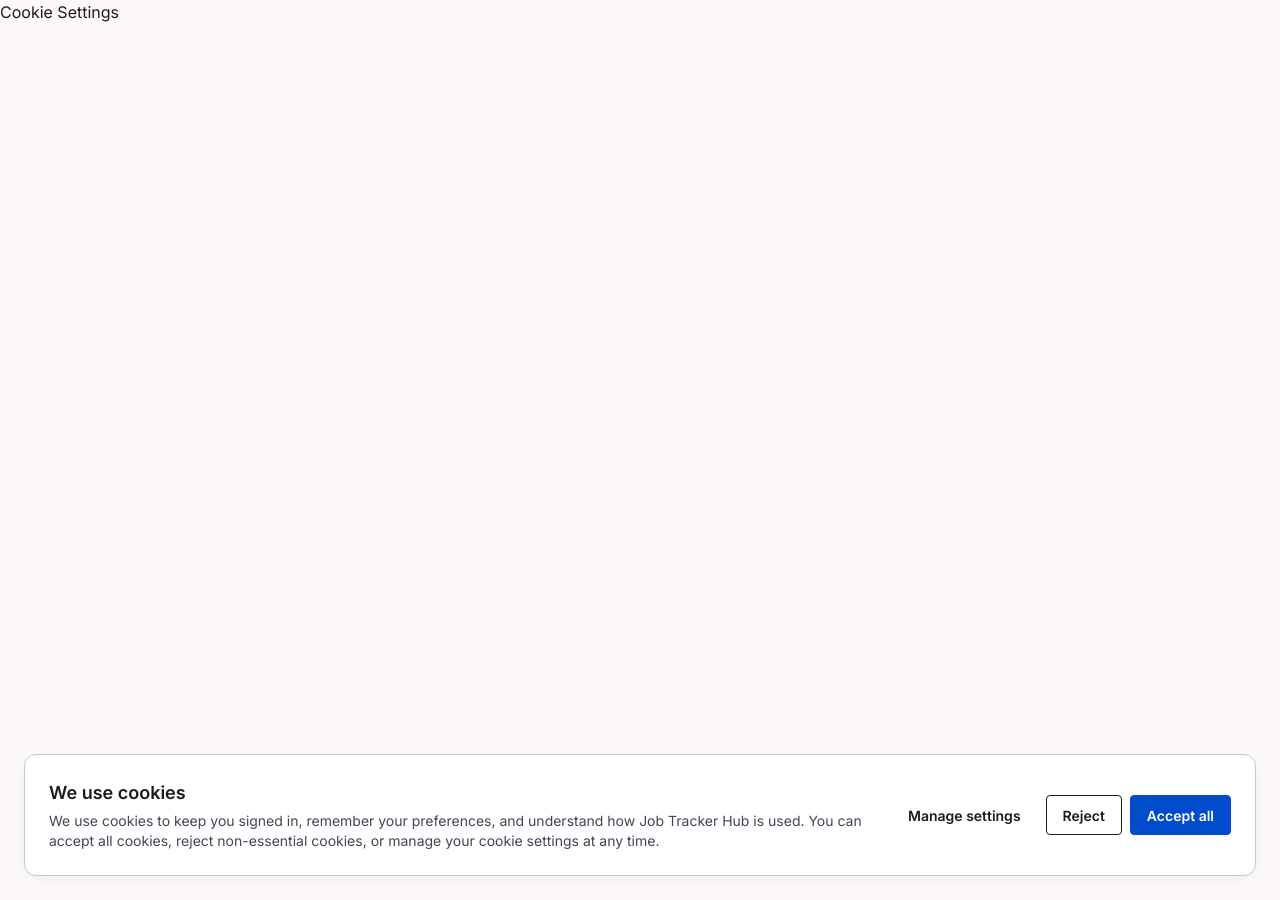
Scenario: CookieConsent › hides the banner when cookie settings are opened
Expected: the dialog "We use cookies" is shown, [0,730,1279,899]
Click the button "Cookie Settings".
click(60, 12)  # box [0,0,119,24]
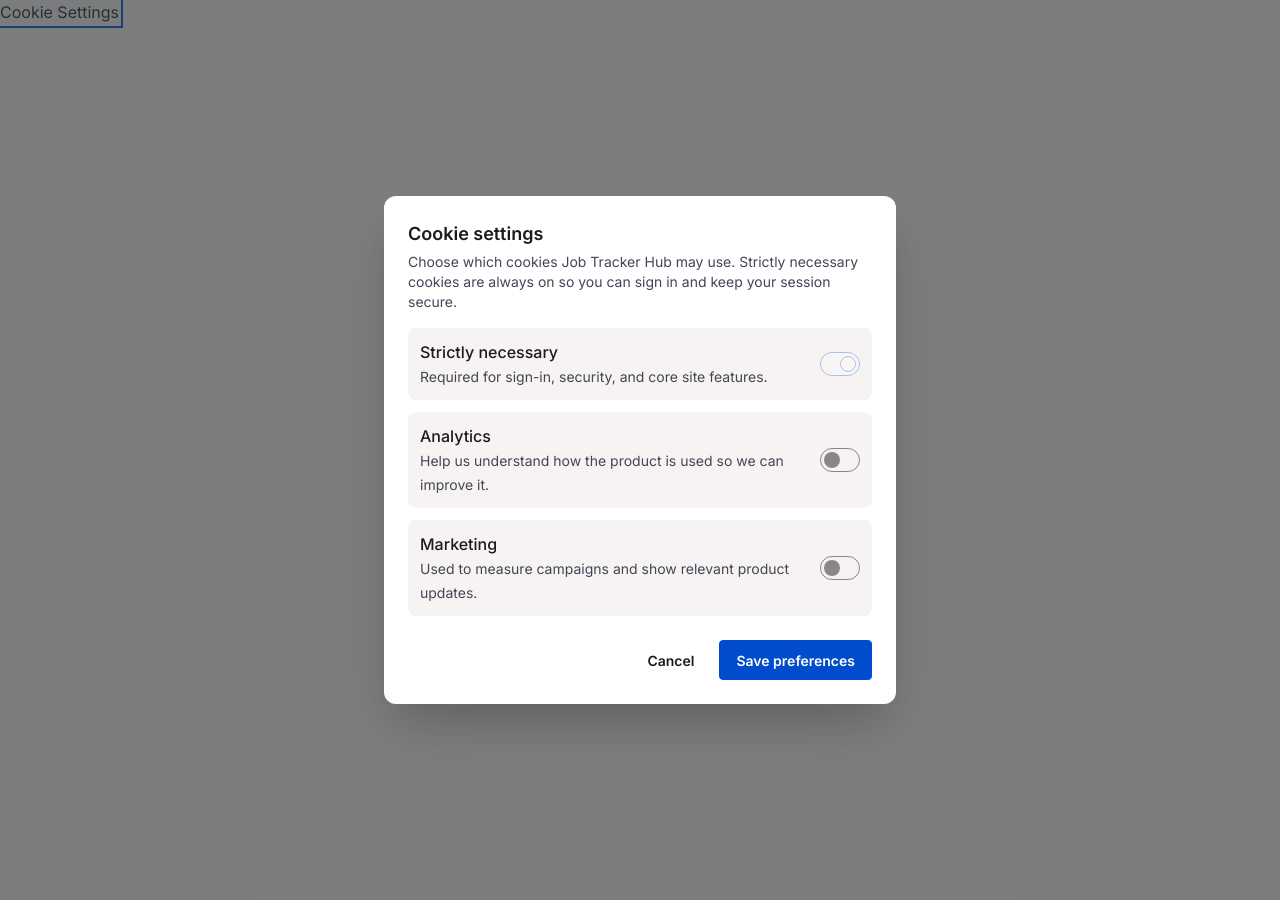
Expected: the heading "We use cookies" is gone
Expected: the dialog "Cookie settings" is shown
